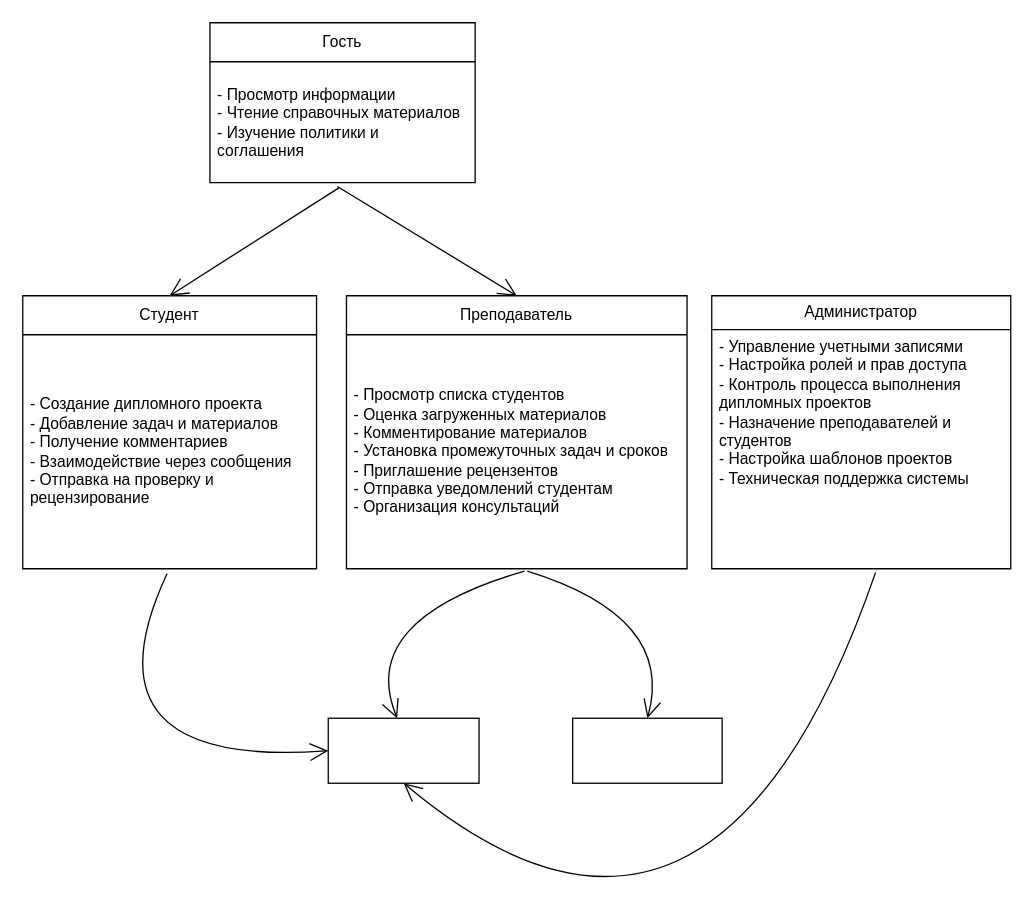
Image size: 1034x900. Some labels were removed from this diagram. Each missing label, with the centre of its shape:
Проектная область: the point at 403,750
Система сообщений: the point at 646,750
